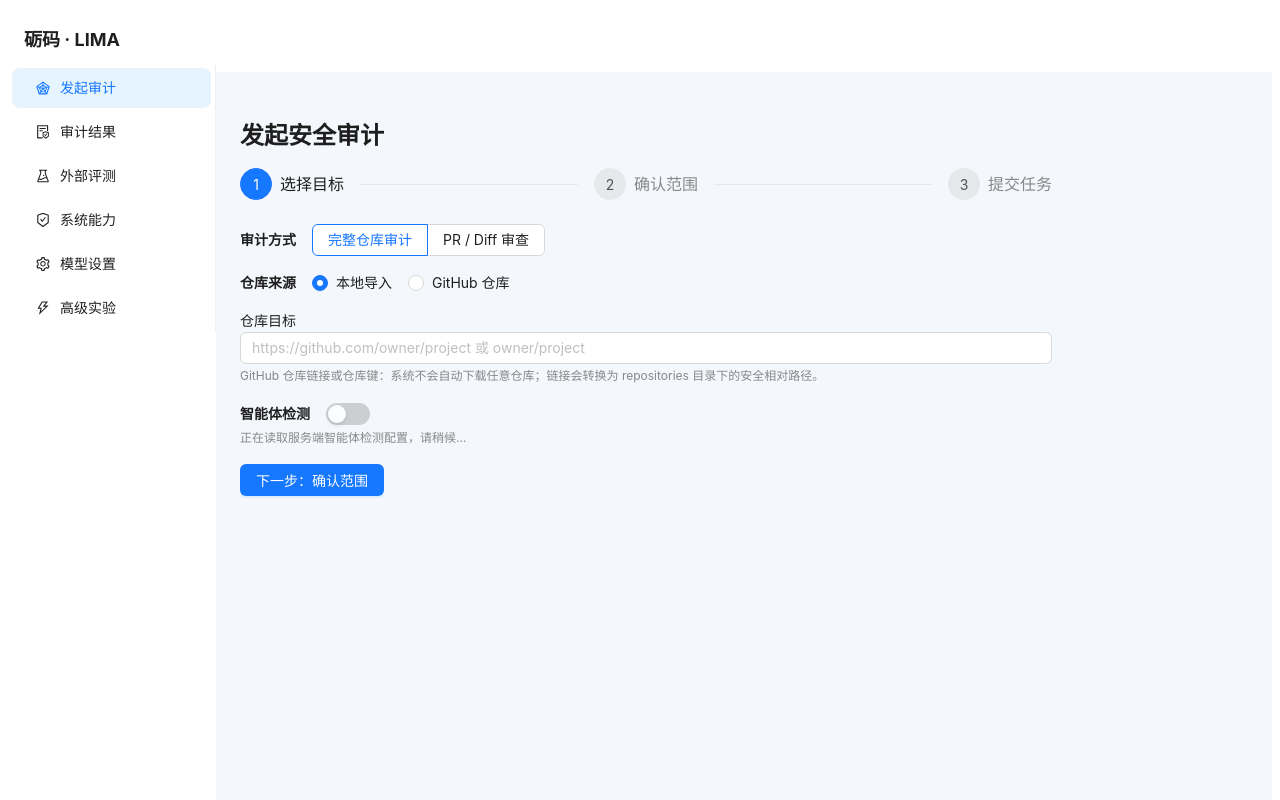
Test: AuditCreatePage Zod validation › rejects an empty target with a readable message
Expected: the heading "发起安全审计" is shown, left=240, top=121, right=384, bottom=150
Click the button "下一步：确认范围": (312, 480) left=240, top=464, right=384, bottom=496
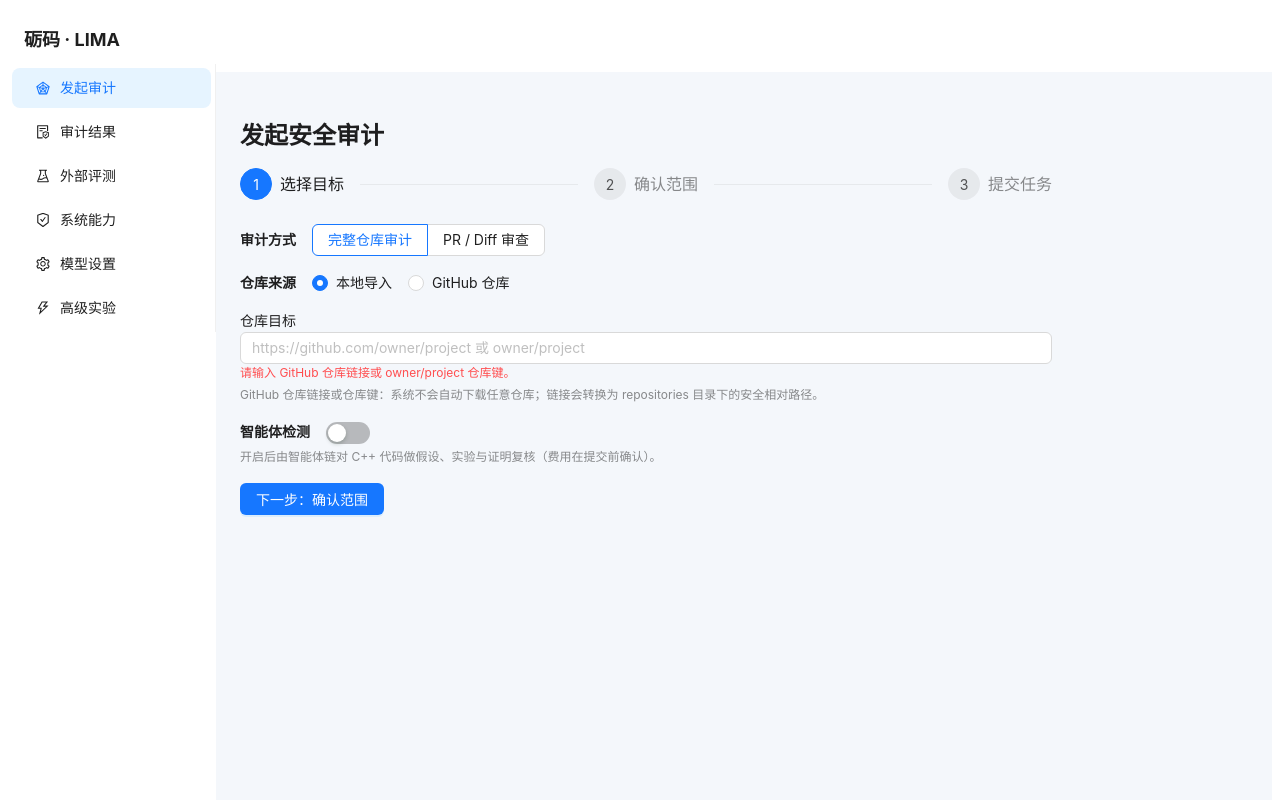
Expected: the text "请输入 GitHub 仓库链接或 owner/project 仓库键。" is shown, left=240, top=365, right=516, bottom=380
